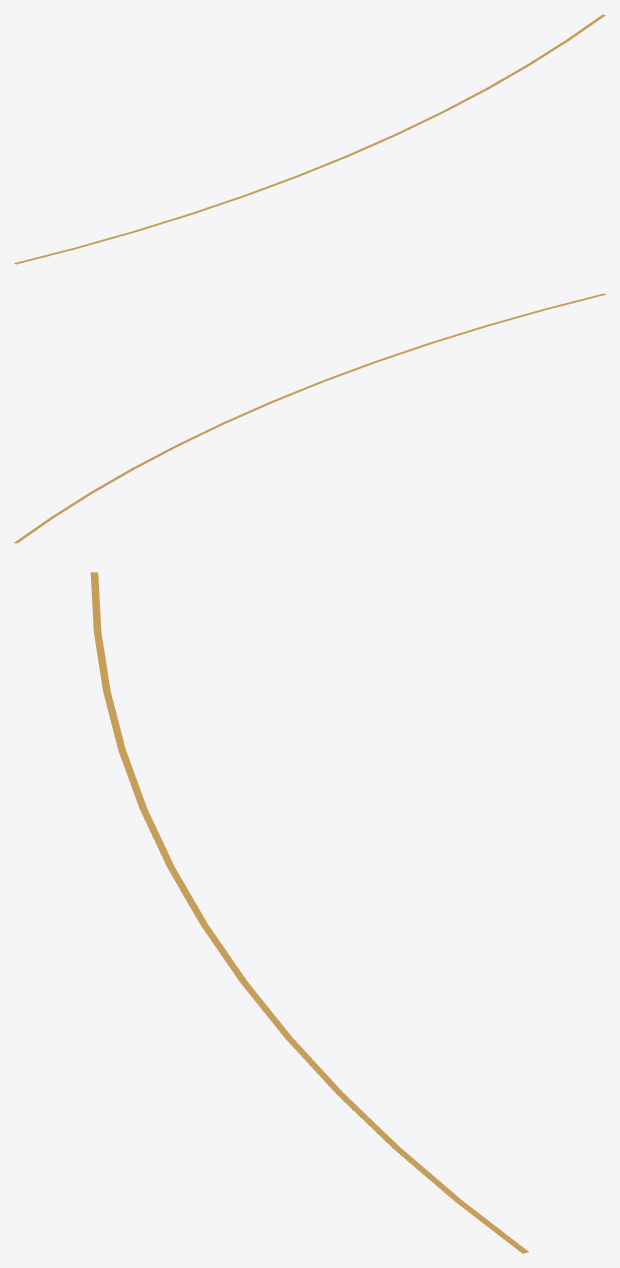
Rendered from RoadPlan_CurveMarking_2L_A30_R36_Center.glb.
3 views of the same model, one above another, from view 1: azimuth 30°, elevation 25°; view 2: azimuth 210°, elevation 25°; view 3: azimuth 270°, elevation 25° (orthographic). The views are drawn at different scales.
Parts seen in each view (by area): view 1: RoadPlan_CurveMarking_2L_A30_R36_Center; view 2: RoadPlan_CurveMarking_2L_A30_R36_Center; view 3: RoadPlan_CurveMarking_2L_A30_R36_Center.
Part boxes in pixels (<box>): RoadPlan_CurveMarking_2L_A30_R36_Center: <box>14,14,605,264</box>; RoadPlan_CurveMarking_2L_A30_R36_Center: <box>14,293,605,543</box>; RoadPlan_CurveMarking_2L_A30_R36_Center: <box>90,572,528,1253</box>.
Bounding box in the file's own units: 18.02 × 0.0007 × 4.9.
